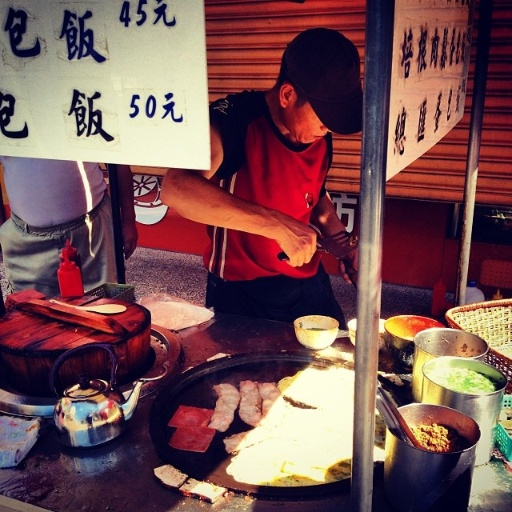hand: (265, 205, 326, 261), (339, 244, 361, 289), (118, 217, 141, 260)
